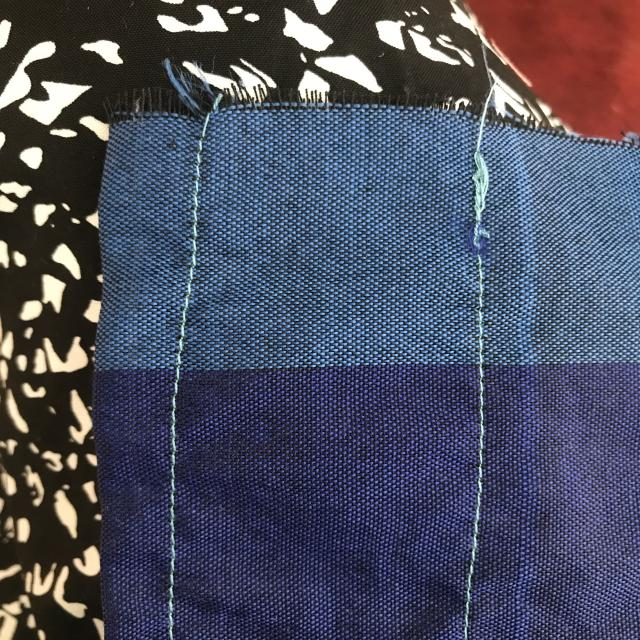good: (159, 449, 186, 572), (469, 420, 497, 533), (172, 285, 200, 370)
